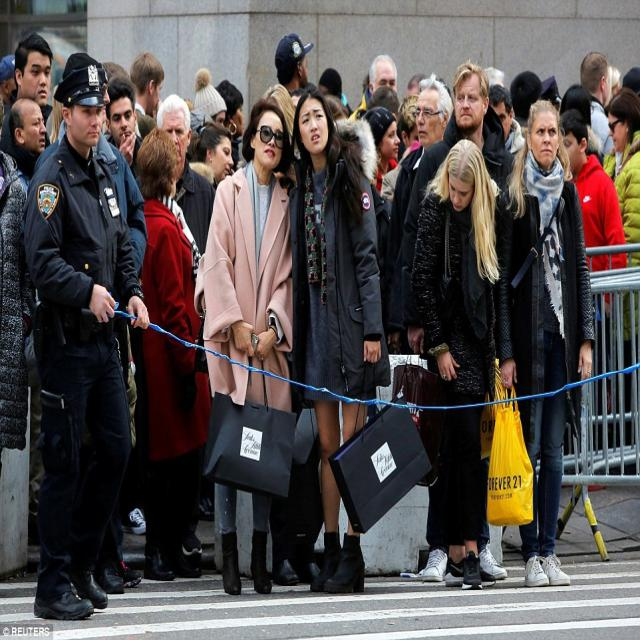body: (0, 31, 640, 541), (23, 60, 150, 623), (25, 52, 148, 595), (397, 61, 512, 584), (286, 82, 392, 596), (491, 97, 595, 588), (202, 97, 297, 599), (404, 136, 503, 592), (134, 93, 216, 559), (135, 130, 208, 582), (557, 106, 628, 492), (595, 84, 639, 476), (6, 94, 35, 176)
